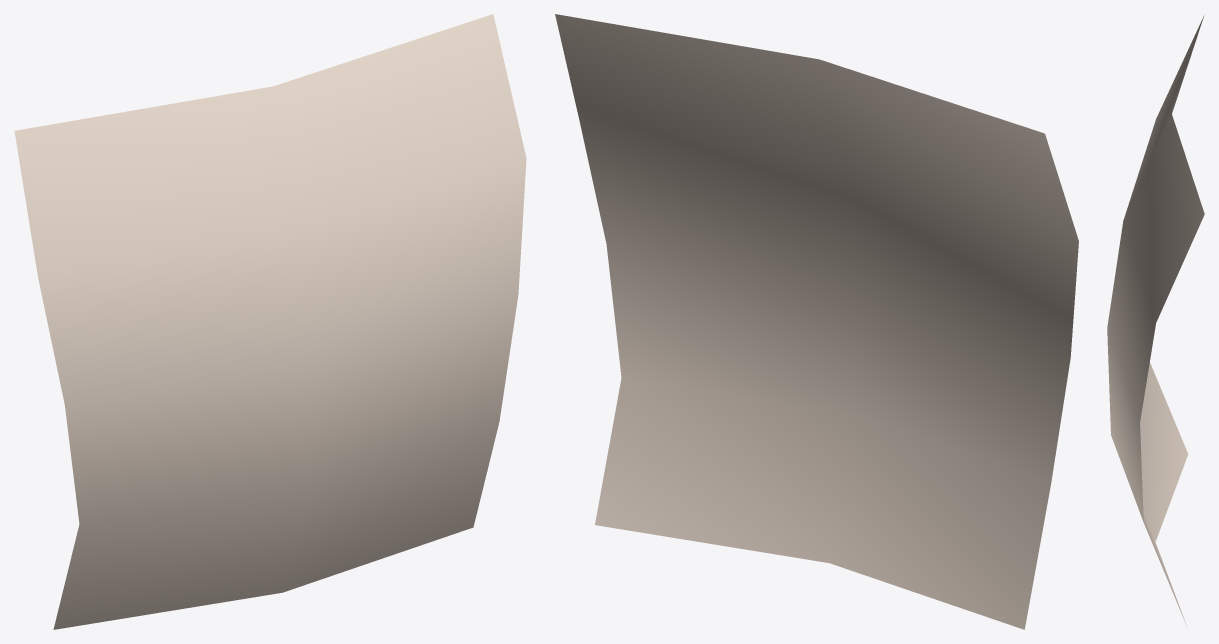
3 views of the same model, side by side, from view 1: azimuth 30°, elevation 25°; view 2: azimuth 150°, elevation 25°; view 3: azimuth 270°, elevation 25° (orthographic). The views are drawn at different scales.
Visible parts, largest first — view 1: Object25; view 2: Object25; view 3: Object25.
Part boxes in pixels (box(x1,y1,x2,y2)): Object25: box(14, 14, 526, 629); Object25: box(555, 14, 1078, 629); Object25: box(1107, 15, 1204, 625).
Bounding box in the file's own units: 26208 × 25600 × 5289.
